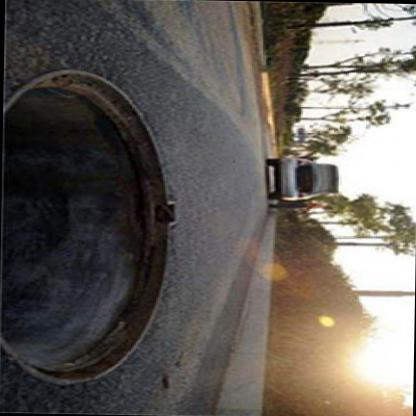manholes: (0, 66, 193, 391)
